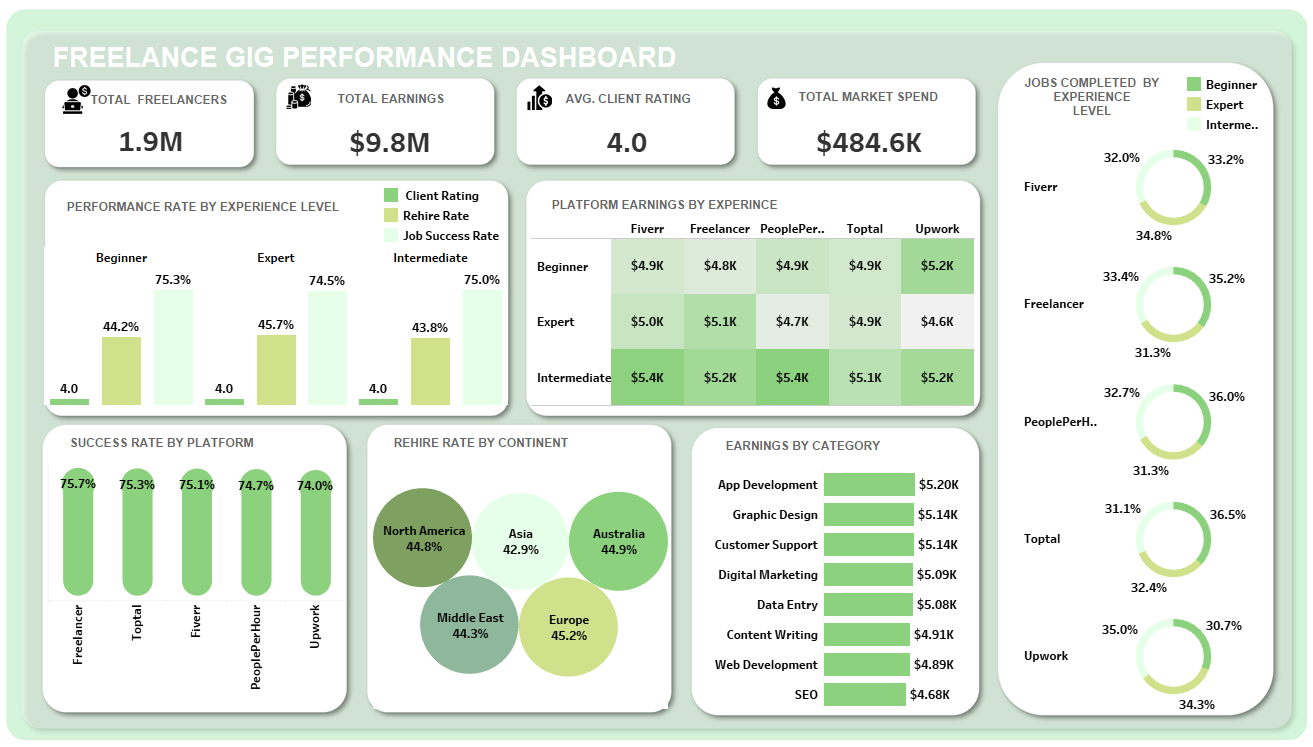

What the dashboard file says about the page in this screenshot:
{"tool":"tableau","page":{"name":"Dashboard 1","canvas":[1000,1000],"units":"permille","ordinal":0},"visuals":[{"type":"image","param":"Image/New Dashboard.png","box":[6.1,10,987.7,980]},{"type":"text","box":[42.3,71.2,518.5,66.2]},{"type":"legend","title":"Jobs Completed by Experience Level","param":"[federated.1ctzebt0jdgq831gcaas41l7jwm4].[none:Experience_Level:nk]","box":[898.1,123.8,64.2,85]},{"type":"text","box":[605.3,133.8,109.4,37.5]},{"type":"image","param":"Image/freelancer.png","box":[49.1,136.2,25.7,37.5]},{"type":"image","param":"Image/money-bag.png","box":[218.1,136.2,23.4,31.2]},{"type":"text","box":[257.4,136.2,84.5,37.5]},{"type":"text","box":[429.4,136.2,98.9,37.5]},{"type":"text","box":[55.1,137.5,138.9,37.5]},{"type":"image","param":"Image/profit.png","box":[401.5,137.5,21.1,31.2]},{"type":"image","param":"Image/money.png","box":[581.1,140,18.9,27.5]},{"type":"text","box":[765.3,145,126.8,68.8]},{"type":"worksheet","title":"Total Earnings","mark":"Automatic","box":[249.8,165,97.4,83.8]},{"type":"worksheet","title":"Total Number of Freelancers","mark":"Automatic","box":[88.3,182.5,69.4,68.8]},{"type":"worksheet","title":"Avg Client Rating","mark":"Automatic","box":[455.1,183.8,55.9,57.5]},{"type":"worksheet","title":"Total Marketing Spend","mark":"Automatic","box":[615.1,183.8,101.1,58.8]},{"type":"worksheet","title":"Jobs Completed by Experience Level","mark":"Pie","rows":["Platform","Calculation_1380916279433396227","Calculation_1380916279433474053"],"box":[772.8,192.5,174.3,732.5]},{"type":"legend","title":"Performance Rate","param":"[federated.1ctzebt0jdgq831gcaas41l7jwm4].[:Measure Names]","box":[292.1,262.5,96.6,77.5]},{"type":"text","box":[418.9,268.8,161.5,37.5]},{"type":"text","box":[52.8,271.2,209.8,37.5]},{"type":"worksheet","title":"Platform  Earnings by Experience","mark":"Automatic","rows":["Experience_Level"],"cols":["Platform"],"box":[405.3,303.8,335.1,235]},{"type":"worksheet","title":"Performance Rate","mark":"Automatic","cols":["Experience_Level"],"box":[37.7,340,350.2,197.5]},{"type":"text","box":[299.6,565,135.8,40]},{"type":"text","box":[55.1,566.2,143.4,38.8]},{"type":"text","box":[550.2,567.5,120.8,42.5]},{"type":"worksheet","title":"Rehire rate by Continent","mark":"Circle","box":[286,601.2,222.6,316.2]},{"type":"worksheet","title":"Job Success Rate by Platform","mark":"Line","cols":["Platform"],"box":[40.8,611.2,224.2,295]},{"type":"worksheet","title":"Earnings by Category","mark":"Automatic","rows":["Job_Category"],"cols":["Earnings_USD"],"box":[535.1,617.5,200,300]}]}

Visuals, with their boxes on the dashboard's canvas, which has no fixed pixel size, in thousandths of its width and height (x1, y1, x2, y2). These are canvas units, not pixel positions in the 1313x747 screenshot, which may show the page scaled, cropped or inside an application window:
image: [x1=6, y1=10, x2=994, y2=990]
text: [x1=42, y1=71, x2=561, y2=137]
"Jobs Completed by Experience Level" legend: [x1=898, y1=124, x2=962, y2=209]
text: [x1=605, y1=134, x2=715, y2=171]
image: [x1=49, y1=136, x2=75, y2=174]
image: [x1=218, y1=136, x2=242, y2=167]
text: [x1=257, y1=136, x2=342, y2=174]
text: [x1=429, y1=136, x2=528, y2=174]
text: [x1=55, y1=138, x2=194, y2=175]
image: [x1=402, y1=138, x2=423, y2=169]
image: [x1=581, y1=140, x2=600, y2=168]
text: [x1=765, y1=145, x2=892, y2=214]
"Total Earnings" worksheet: [x1=250, y1=165, x2=347, y2=249]
"Total Number of Freelancers" worksheet: [x1=88, y1=182, x2=158, y2=251]
"Avg Client Rating" worksheet: [x1=455, y1=184, x2=511, y2=241]
"Total Marketing Spend" worksheet: [x1=615, y1=184, x2=716, y2=243]
"Jobs Completed by Experience Level" worksheet (Pie marks): [x1=773, y1=192, x2=947, y2=925]
"Performance Rate" legend: [x1=292, y1=262, x2=389, y2=340]
text: [x1=419, y1=269, x2=580, y2=306]
text: [x1=53, y1=271, x2=263, y2=309]
"Platform  Earnings by Experience" worksheet: [x1=405, y1=304, x2=740, y2=539]
"Performance Rate" worksheet: [x1=38, y1=340, x2=388, y2=538]
text: [x1=300, y1=565, x2=435, y2=605]
text: [x1=55, y1=566, x2=198, y2=605]
text: [x1=550, y1=568, x2=671, y2=610]
"Rehire rate by Continent" worksheet (Circle marks): [x1=286, y1=601, x2=509, y2=917]
"Job Success Rate by Platform" worksheet (Line marks): [x1=41, y1=611, x2=265, y2=906]
"Earnings by Category" worksheet: [x1=535, y1=618, x2=735, y2=918]
